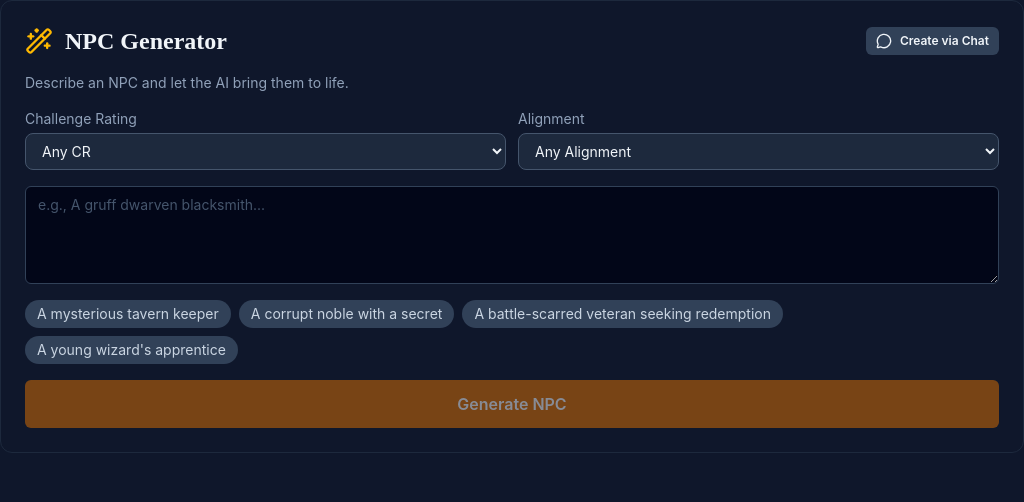
Test: wp-f2-entity-editors #110 — generator failures leave a diagnostic trail › logs the caught error instead of silently blaming the API key
This screenshot has width=1024, height=502.
In the text box with placeholder "e.g., A gruff dwarven blacksmith...": {"x": 512, "y": 235} x1=25 y1=186 x2=999 y2=284, type "A corrupt harbourmaster"
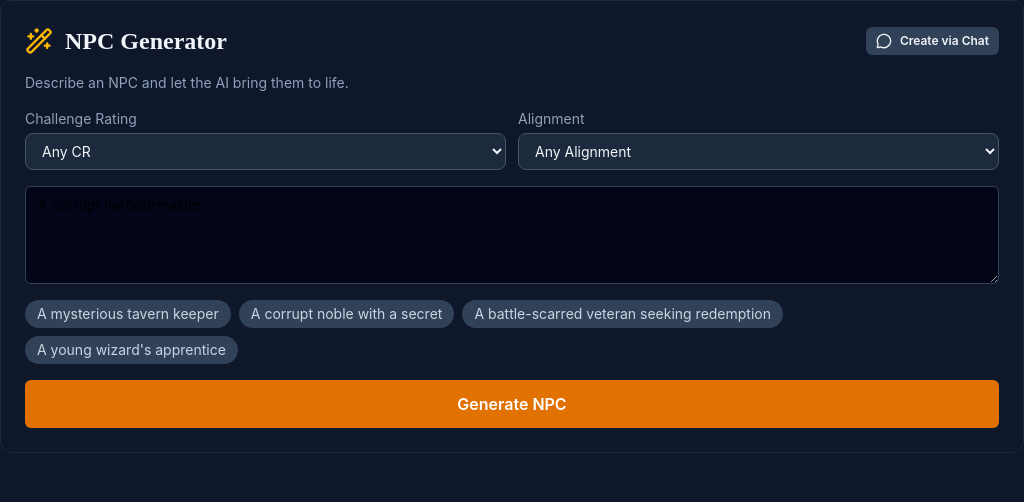
Click the button "Generate NPC": {"x": 512, "y": 404} x1=25 y1=380 x2=999 y2=428
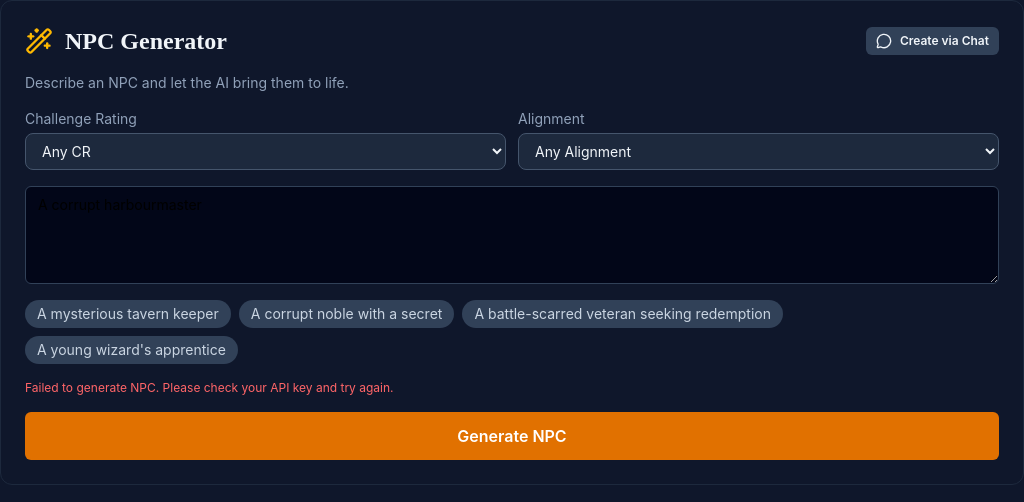
expect the text "Failed to generate" is shown: met, box x1=25 y1=380 x2=394 y2=395
